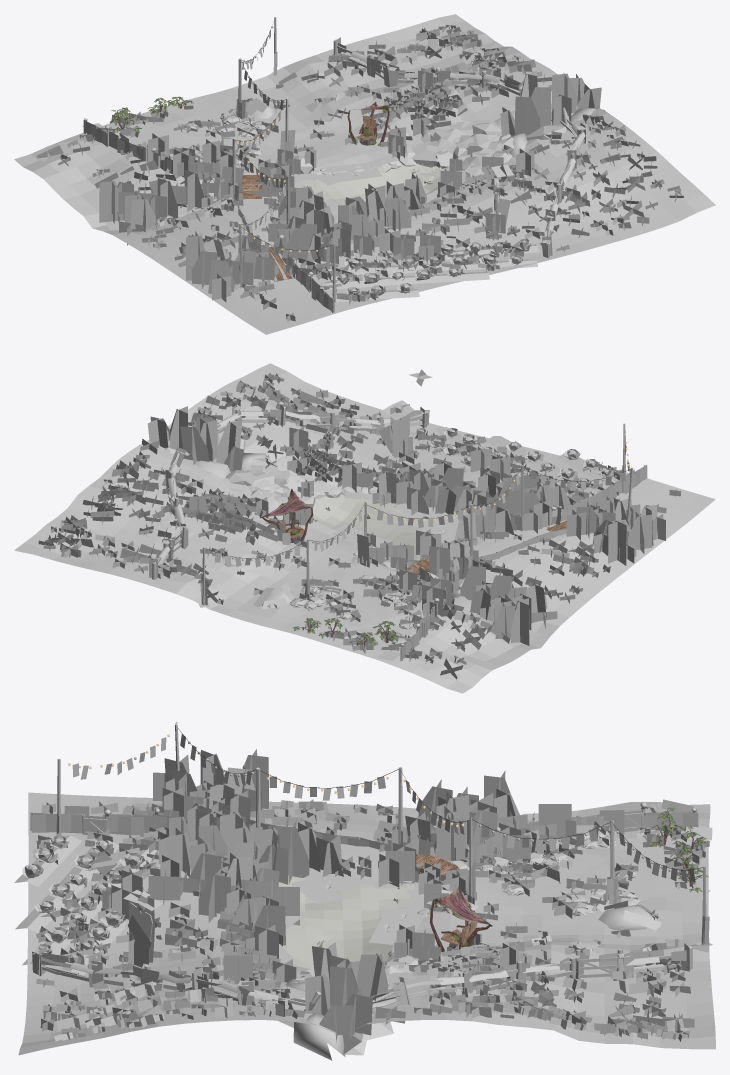
File: garden.gltf
3 views of the same model, one above another, from view 1: azimuth 30°, elevation 25°; view 2: azimuth 150°, elevation 25°; view 3: azimuth 270°, elevation 25° (orthographic). The views are drawn at different scales.
Visible parts, largest first — view 1: Plane.167, Plane.002, Plane.257, Plane.166, Cylinder.032, Cylinder, Plane.476, Plane.230, Cylinder.053, Plane.411, Cylinder.041, Plane.256 (+8 smaller); view 2: Plane.167, Plane.002, Cylinder.041, Cylinder.043, Plane.261, Plane.231, Plane.166, Plane.211, Cylinder.072, Plane.257, Cylinder.010, Cylinder.011 (+7 smaller); view 3: Plane.167, Plane.002, Cylinder.011, Cylinder.041, Icosphere.051, Cylinder.010, Cylinder.051, Cylinder.058, Plane.261, Plane.084, Plane.476, Cylinder.055 (+52 smaller).
Part boxes in pixels (x1,y1,x2,y2): Plane.167: [14, 14, 715, 334]; Plane.002: [201, 92, 527, 243]; Plane.257: [514, 96, 540, 135]; Plane.166: [99, 180, 118, 223]; Cylinder.032: [239, 222, 339, 303]; Cylinder: [347, 102, 389, 146]; Plane.476: [386, 193, 411, 230]; Plane.230: [130, 195, 155, 232]; Cylinder.053: [435, 69, 490, 88]; Plane.411: [402, 271, 489, 284]; Cylinder.041: [236, 17, 278, 119]; Plane.256: [531, 87, 550, 127]; Plane.167: [14, 363, 715, 693]; Plane.002: [193, 449, 529, 593]; Cylinder.041: [198, 538, 309, 607]; Cylinder.043: [520, 464, 633, 526]; Plane.261: [180, 421, 209, 464]; Plane.231: [608, 520, 626, 565]; Plane.166: [511, 598, 529, 645]; Plane.211: [628, 511, 652, 553]; Cylinder.072: [365, 503, 472, 559]; Plane.257: [216, 421, 242, 463]; Cylinder.010: [470, 465, 523, 566]; Cylinder.011: [305, 502, 366, 597]; Plane.167: [18, 792, 715, 1055]; Plane.002: [216, 846, 542, 987]; Cylinder.011: [467, 817, 617, 900]; Cylinder.041: [607, 820, 712, 945]; Icosphere.051: [293, 1012, 345, 1060]; Cylinder.010: [257, 767, 402, 844]; Cylinder.051: [392, 974, 466, 1005]; Cylinder.058: [617, 943, 692, 979]; Plane.261: [356, 953, 388, 1001]; Plane.084: [275, 820, 309, 884]; Plane.476: [198, 868, 230, 922]; Cylinder.055: [32, 946, 93, 981].
Size of the model in its own units: 3134 by 714 by 3115.
